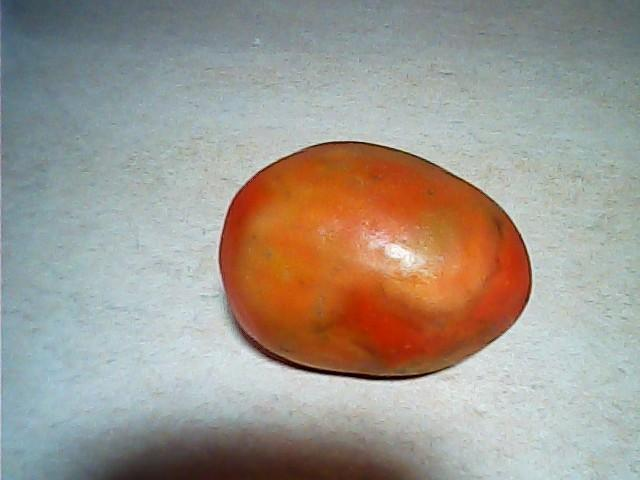defectuoso: (220, 138, 534, 383)
